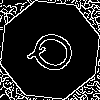Q: (25, 25, 87, 83)
